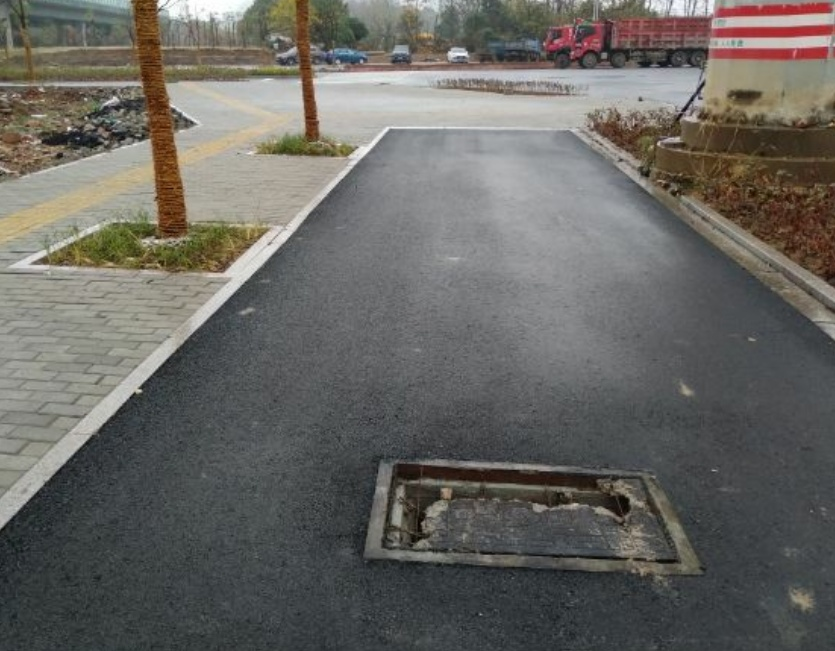broke: (362, 455, 704, 576)
